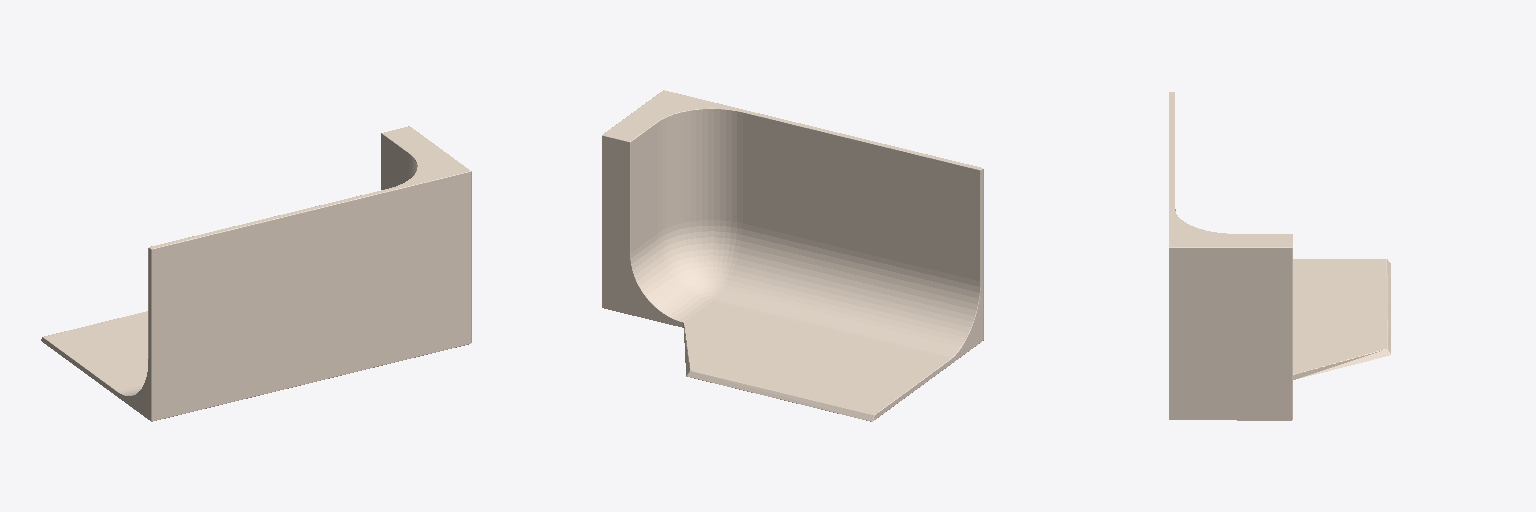
Rendered from Backdrop.obj.
3 views of the same model, side by side, from view 1: azimuth 30°, elevation 25°; view 2: azimuth 150°, elevation 25°; view 3: azimuth 270°, elevation 25° (orthographic).
Parts seen in each view (by area): view 1: Backdrop; view 2: Backdrop; view 3: Backdrop.
Boxes of the visible parts, <box> form: Backdrop: <box>41,126,471,421</box>; Backdrop: <box>602,90,983,421</box>; Backdrop: <box>1169,92,1390,420</box>.
Bounding box in the file's own units: 6 × 3.09 × 3.6.